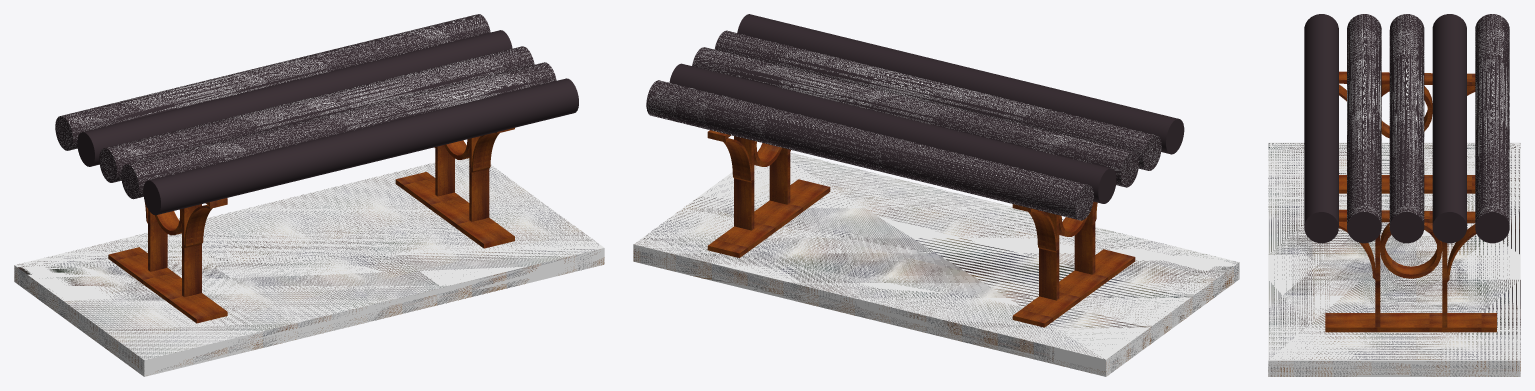
The picture shows the model from 3 angles, left to right: view 1: azimuth 30°, elevation 25°; view 2: azimuth 150°, elevation 25°; view 3: azimuth 270°, elevation 25°; orthographic projection. The views are drawn at different scales.
Parts seen in each view (by area): view 1: mesh42_mesh42-geometry, mesh5_mesh5-geometry, mesh2_mesh2-geometry, mesh1_mesh1-geometry, mesh4_mesh4-geometry, mesh3_mesh3-geometry, mesh21_mesh21-geometry, mesh39_mesh39-geometry, mesh24_mesh24-geometry, mesh6_mesh6-geometry, mesh26_mesh26-geometry, mesh8_mesh8-geometry (+3 smaller); view 2: mesh42_mesh42-geometry, mesh4_mesh4-geometry, mesh5_mesh5-geometry, mesh3_mesh3-geometry, mesh1_mesh1-geometry, mesh2_mesh2-geometry, mesh21_mesh21-geometry, mesh39_mesh39-geometry, mesh8_mesh8-geometry, mesh26_mesh26-geometry, mesh24_mesh24-geometry, mesh6_mesh6-geometry (+3 smaller); view 3: mesh42_mesh42-geometry, mesh2_mesh2-geometry, mesh3_mesh3-geometry, mesh4_mesh4-geometry, mesh1_mesh1-geometry, mesh5_mesh5-geometry, mesh21_mesh21-geometry, mesh14_mesh14-geometry, mesh39_mesh39-geometry, mesh6_mesh6-geometry, mesh8_mesh8-geometry, mesh32_mesh32-geometry (+4 smaller).
Part boxes in pixels (x1,y1,x2,y2): mesh42_mesh42-geometry: [14, 158, 604, 376]; mesh5_mesh5-geometry: [143, 78, 578, 215]; mesh2_mesh2-geometry: [99, 46, 534, 182]; mesh1_mesh1-geometry: [121, 62, 556, 199]; mesh4_mesh4-geometry: [55, 14, 490, 150]; mesh3_mesh3-geometry: [77, 30, 512, 166]; mesh21_mesh21-geometry: [395, 172, 514, 248]; mesh39_mesh39-geometry: [108, 247, 227, 323]; mesh24_mesh24-geometry: [182, 204, 201, 297]; mesh6_mesh6-geometry: [469, 136, 489, 221]; mesh26_mesh26-geometry: [148, 209, 167, 271]; mesh8_mesh8-geometry: [435, 145, 454, 196]; mesh42_mesh42-geometry: [633, 152, 1239, 376]; mesh4_mesh4-geometry: [646, 80, 1093, 220]; mesh5_mesh5-geometry: [737, 14, 1184, 154]; mesh3_mesh3-geometry: [669, 63, 1116, 203]; mesh1_mesh1-geometry: [714, 30, 1161, 170]; mesh2_mesh2-geometry: [692, 47, 1138, 187]; mesh21_mesh21-geometry: [707, 179, 830, 257]; mesh39_mesh39-geometry: [1012, 249, 1135, 327]; mesh8_mesh8-geometry: [734, 136, 754, 230]; mesh26_mesh26-geometry: [1039, 212, 1059, 300]; mesh24_mesh24-geometry: [1074, 201, 1095, 274]; mesh6_mesh6-geometry: [769, 148, 790, 204]; mesh42_mesh42-geometry: [1268, 142, 1520, 376]; mesh2_mesh2-geometry: [1389, 14, 1424, 243]; mesh3_mesh3-geometry: [1432, 14, 1466, 243]; mesh4_mesh4-geometry: [1475, 14, 1509, 243]; mesh1_mesh1-geometry: [1347, 14, 1381, 243]; mesh5_mesh5-geometry: [1304, 14, 1338, 243]; mesh21_mesh21-geometry: [1325, 313, 1496, 332]; mesh14_mesh14-geometry: [1380, 222, 1442, 278]; mesh39_mesh39-geometry: [1339, 175, 1475, 193]; mesh6_mesh6-geometry: [1375, 234, 1380, 327]; mesh8_mesh8-geometry: [1442, 242, 1447, 327]; mesh32_mesh32-geometry: [1381, 84, 1432, 138].
Bounding box in the file's own units: 0.858 × 0.2966 × 0.4194.
